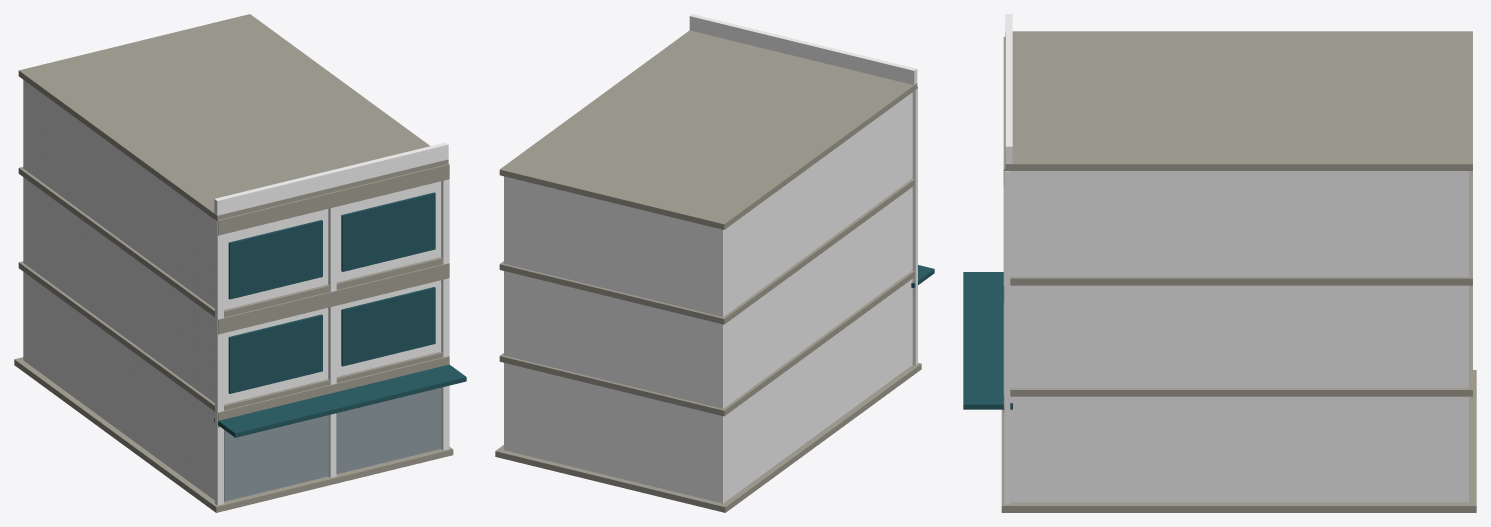
The model's file is shoplot-building.glb.
3 renders of one model, left to right at view 1: azimuth 30°, elevation 25°; view 2: azimuth 150°, elevation 25°; view 3: azimuth 270°, elevation 25°, orthographic. The views are drawn at different scales.
Parts seen in each view (by area): view 1: Party_Wall, Flat_Slab.002, Ground_Shutter, Ground_Shutter.001, Upper_Front_Wall.001, Ribbon_Window.001, Ribbon_Window.002, Ribbon_Window.003, Ribbon_Window, Modern_Awning, Base, Upper_Front_Wall (+9 smaller); view 2: Rear_Wall, Party_Wall, Flat_Slab.002, Base, Flat_Parapet, Flat_Slab.001, Flat_Slab, Facade_Pier, Party_Wall.001; view 3: Party_Wall.001, Flat_Slab.002, Base, Modern_Awning, Flat_Slab.001, Flat_Slab, Facade_Pier.002, Flat_Parapet.
Boxes of the visible parts, left/top/right/bottom form: Party_Wall: left=23, top=80, right=224, bottom=500; Flat_Slab.002: left=18, top=14, right=448, bottom=220; Ground_Shutter: left=224, top=415, right=328, bottom=501; Ground_Shutter.001: left=336, top=387, right=441, bottom=473; Upper_Front_Wall.001: left=224, top=181, right=441, bottom=309; Ribbon_Window.001: left=228, top=220, right=322, bottom=299; Ribbon_Window.002: left=341, top=287, right=435, bottom=366; Ribbon_Window.003: left=341, top=192, right=435, bottom=271; Ribbon_Window: left=228, top=314, right=322, bottom=393; Modern_Awning: left=214, top=364, right=466, bottom=437; Base: left=14, top=357, right=453, bottom=512; Upper_Front_Wall: left=224, top=280, right=441, bottom=404; Rear_Wall: left=509, top=177, right=717, bottom=501; Party_Wall: left=717, top=92, right=912, bottom=503; Flat_Slab.002: left=499, top=30, right=917, bottom=229; Base: left=495, top=363, right=921, bottom=512; Flat_Parapet: left=689, top=14, right=917, bottom=84; Flat_Slab.001: left=499, top=178, right=915, bottom=324; Flat_Slab: left=499, top=270, right=915, bottom=416; Facade_Pier: left=912, top=88, right=917, bottom=365; Party_Wall.001: left=504, top=176, right=509, bottom=451; Party_Wall.001: left=1010, top=171, right=1468, bottom=502; Flat_Slab.002: left=1005, top=31, right=1472, bottom=170; Base: left=1001, top=370, right=1476, bottom=512; Modern_Awning: left=963, top=272, right=1012, bottom=409; Flat_Slab.001: left=1010, top=171, right=1472, bottom=285; Flat_Slab: left=1010, top=285, right=1472, bottom=396; Facade_Pier.002: left=1004, top=171, right=1010, bottom=504; Flat_Parapet: left=1005, top=14, right=1012, bottom=163.
Size of the model in its own units: 8.4 by 10.5 by 13.4.
